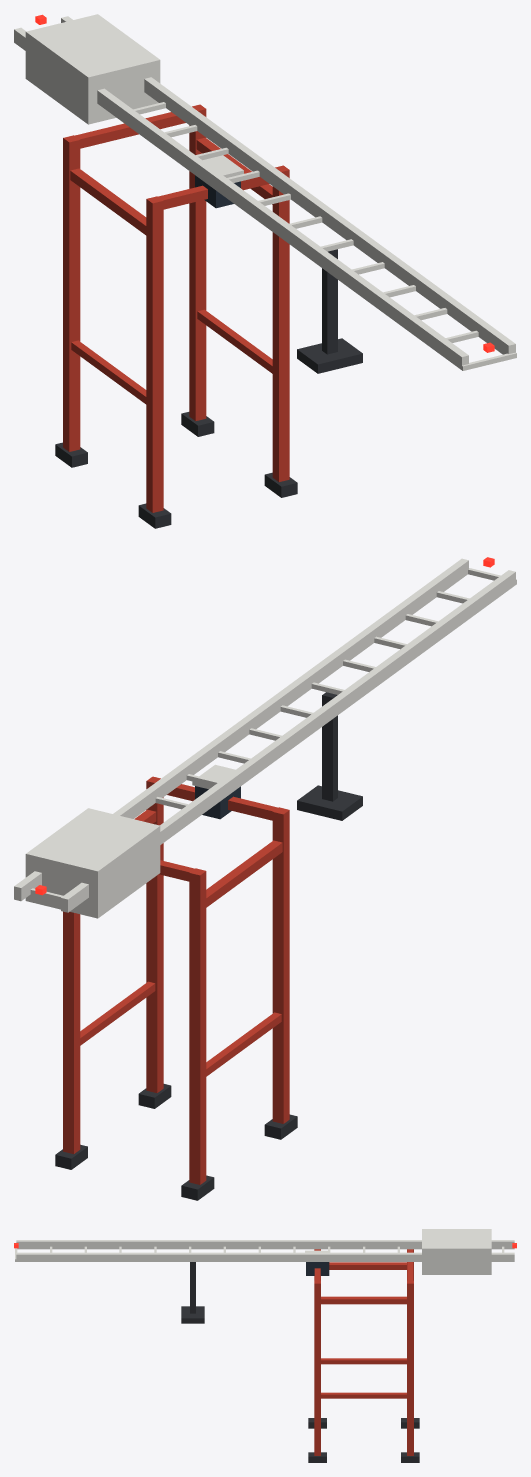
File: bld_in_crane.glb
The picture shows the model from 3 angles, top to bottom: view 1: azimuth 30°, elevation 25°; view 2: azimuth 150°, elevation 25°; view 3: azimuth 270°, elevation 25°; orthographic projection. The views are drawn at different scales.
Parts seen in each view (by area): view 1: bld_in_crane; view 2: bld_in_crane; view 3: bld_in_crane.
Boxes of the visible parts, x1,y1,x2,y2 form: bld_in_crane: [14, 14, 516, 528]; bld_in_crane: [14, 557, 516, 1200]; bld_in_crane: [14, 1229, 516, 1462].
Size of what is drawn, in the model's own units: 15.8 by 39 by 86.8.
